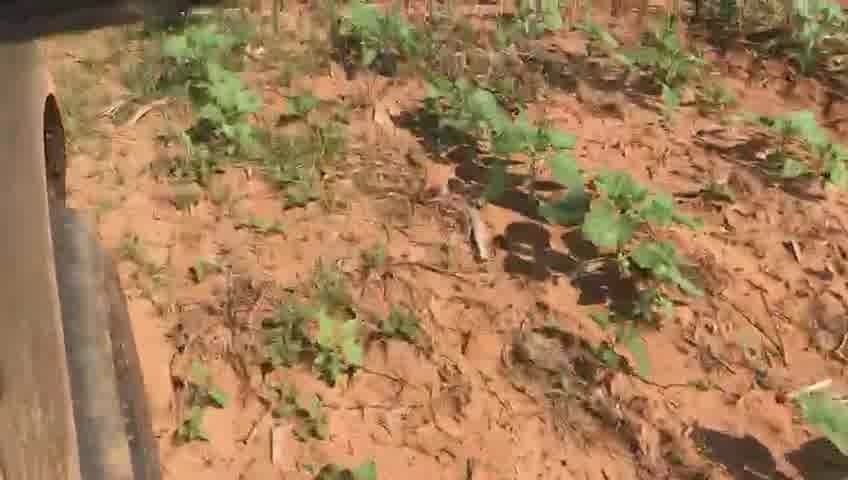sunflower: (536, 168, 684, 271), (477, 119, 579, 205), (619, 22, 710, 116), (754, 106, 836, 200), (414, 78, 517, 145), (280, 305, 378, 374), (338, 7, 426, 79), (780, 370, 840, 470), (630, 239, 697, 320), (189, 68, 260, 139), (520, 7, 572, 41)
